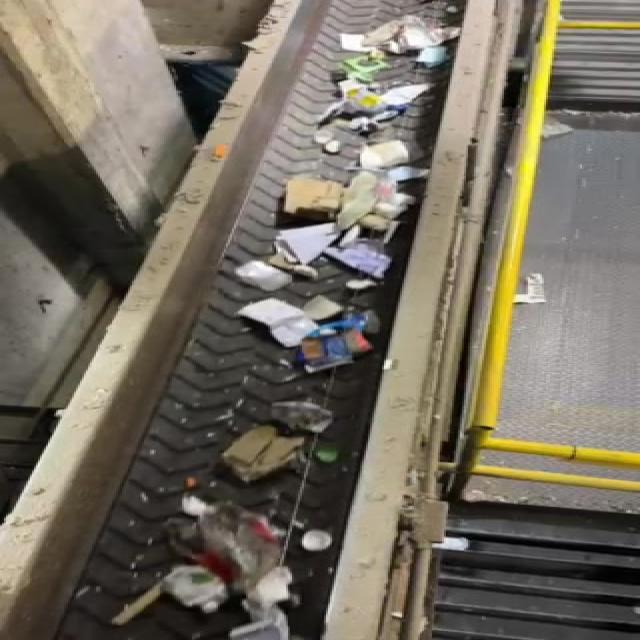metal: (261, 520, 350, 560)
paper: (220, 431, 317, 491)
ps: (162, 560, 294, 614)
